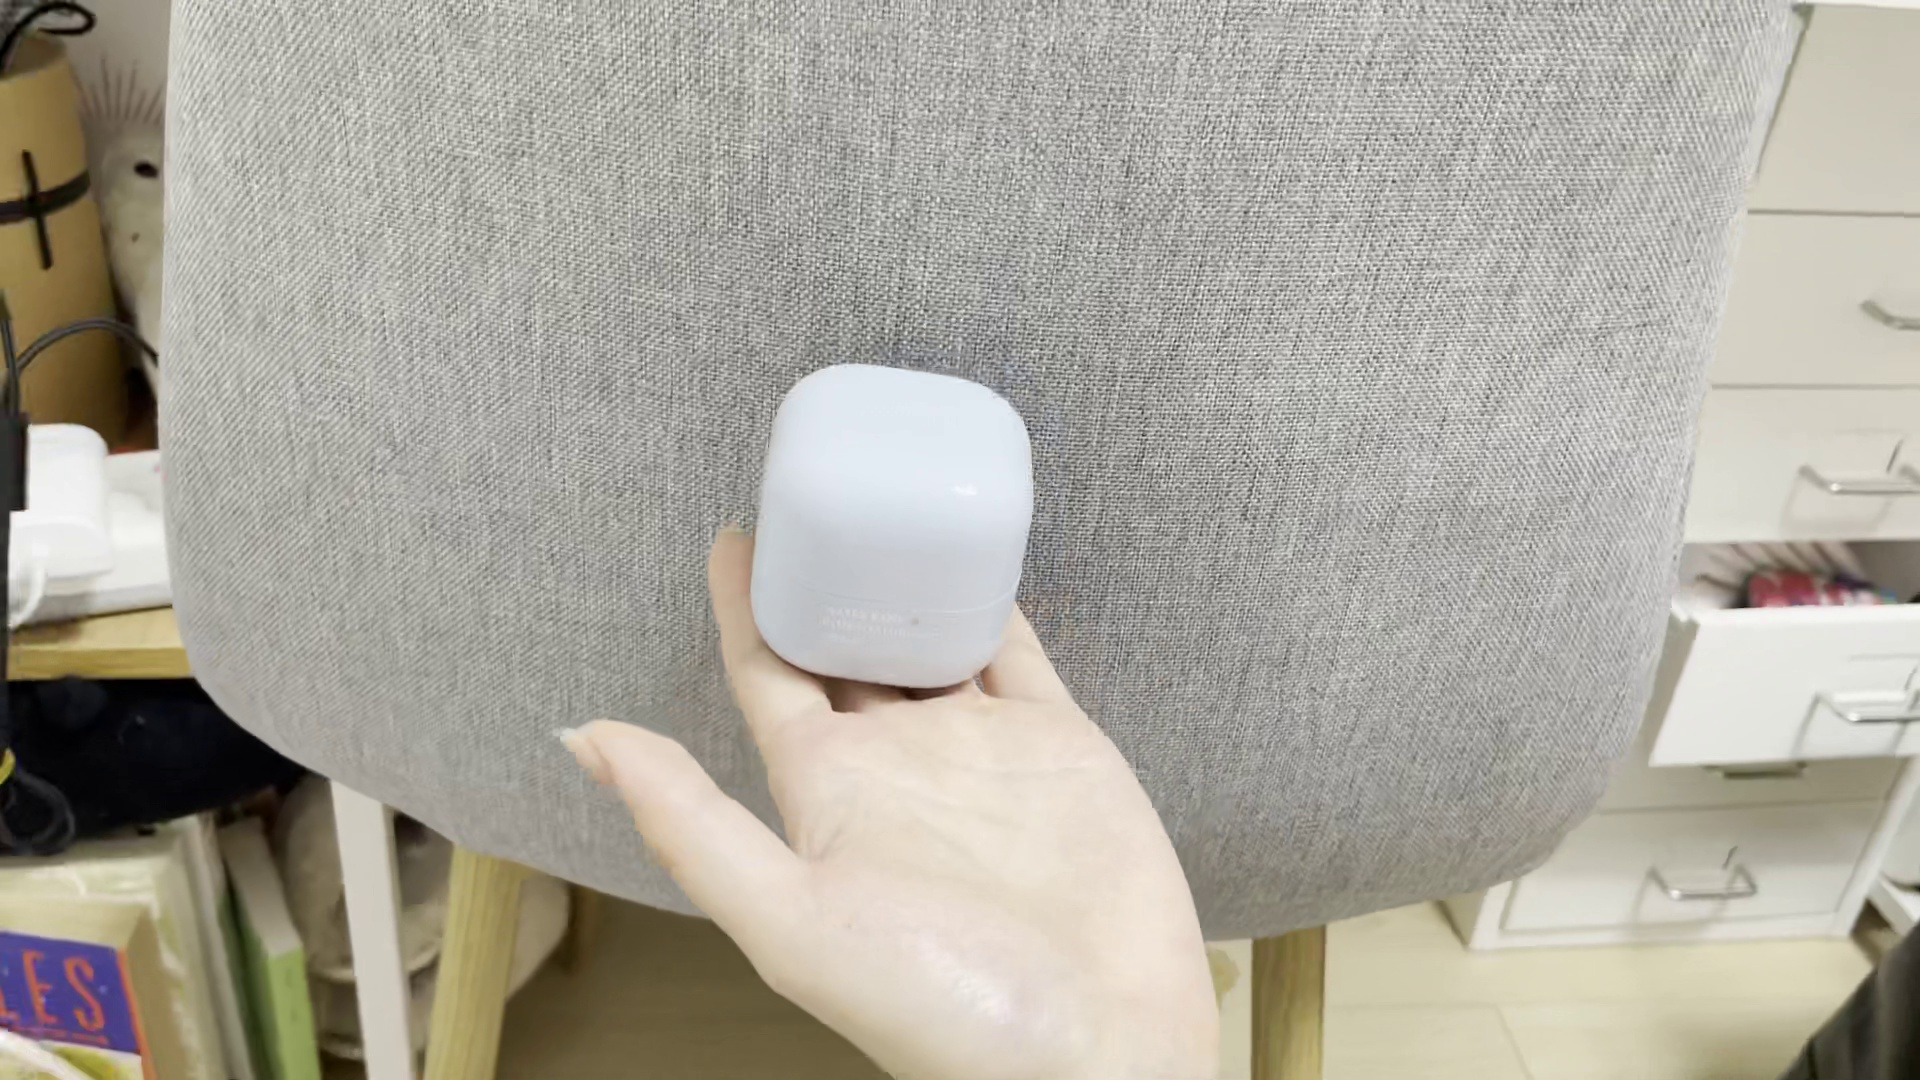cream: (760, 363, 1030, 692)
